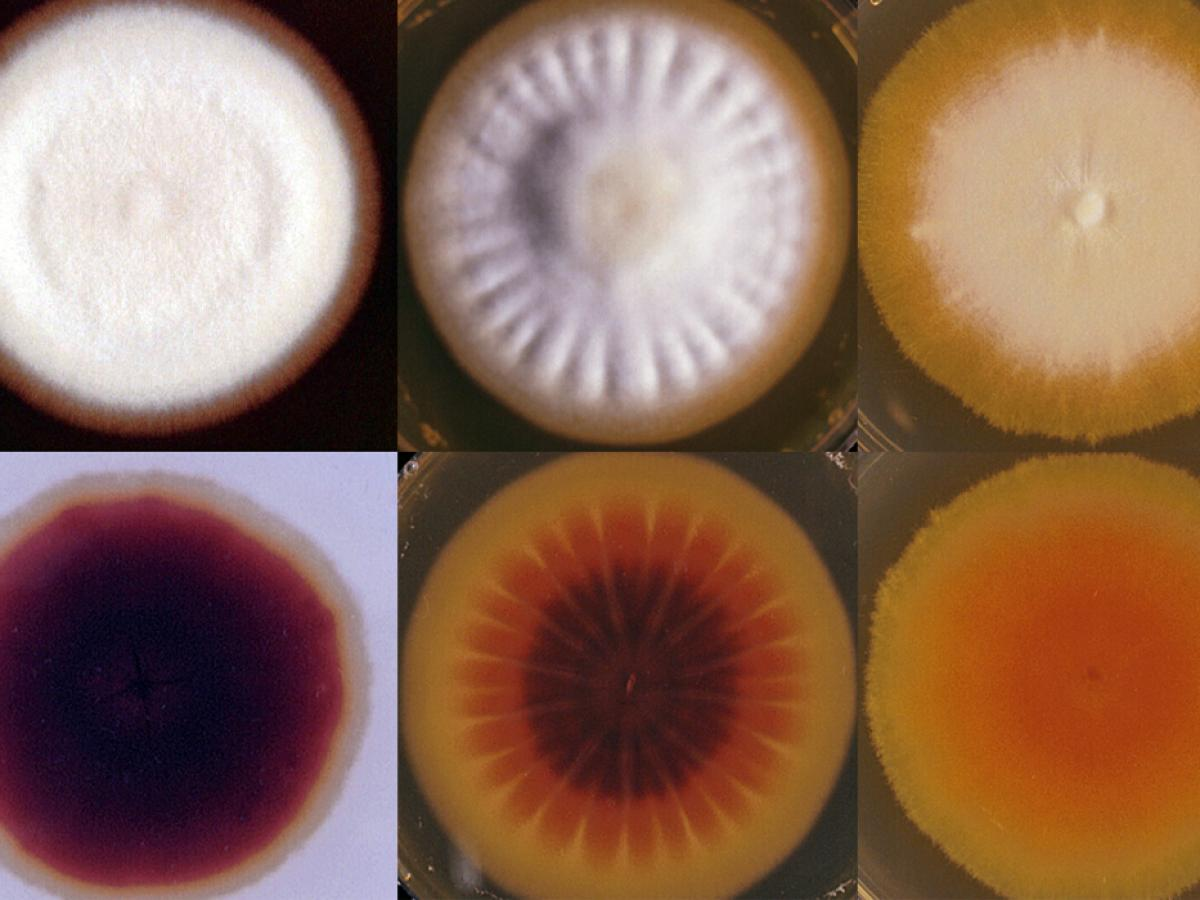Trichophyton: (2, 28, 318, 379), (463, 521, 793, 857), (5, 509, 351, 814), (448, 52, 774, 367), (889, 36, 1200, 349), (901, 507, 1185, 802)
